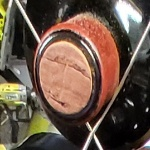bottle: (22, 18, 131, 134)
